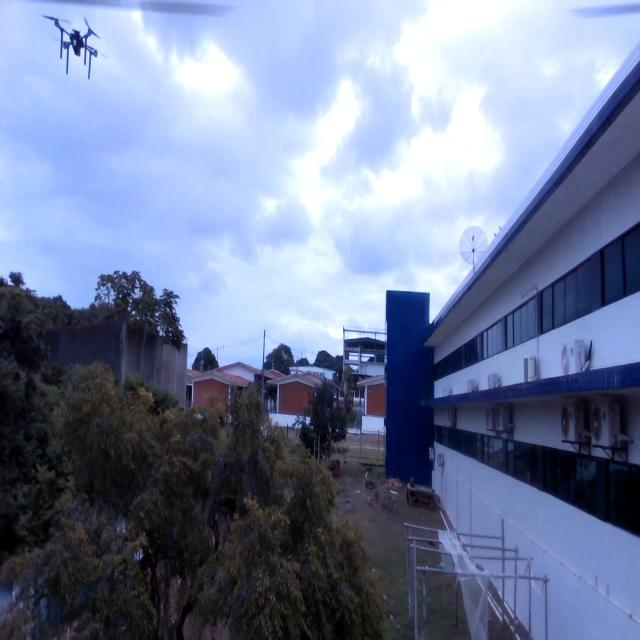-uav-: (35, 4, 113, 88)
